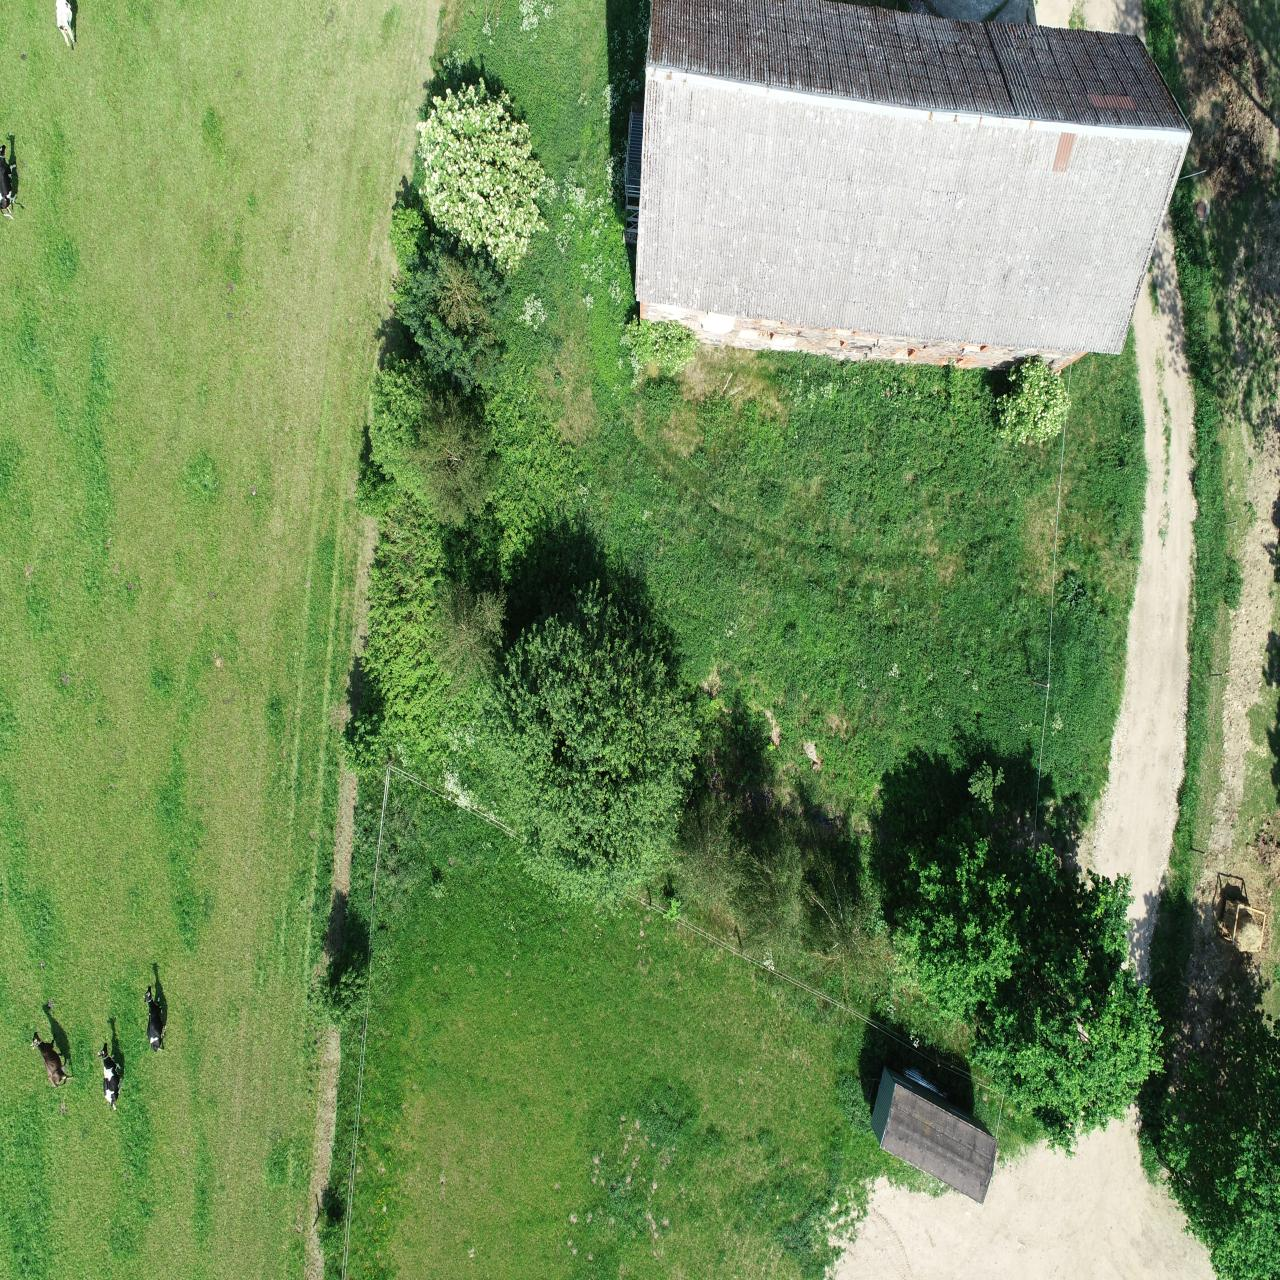cow: (28, 1030, 76, 1094), (141, 981, 169, 1054), (96, 1040, 123, 1115)
